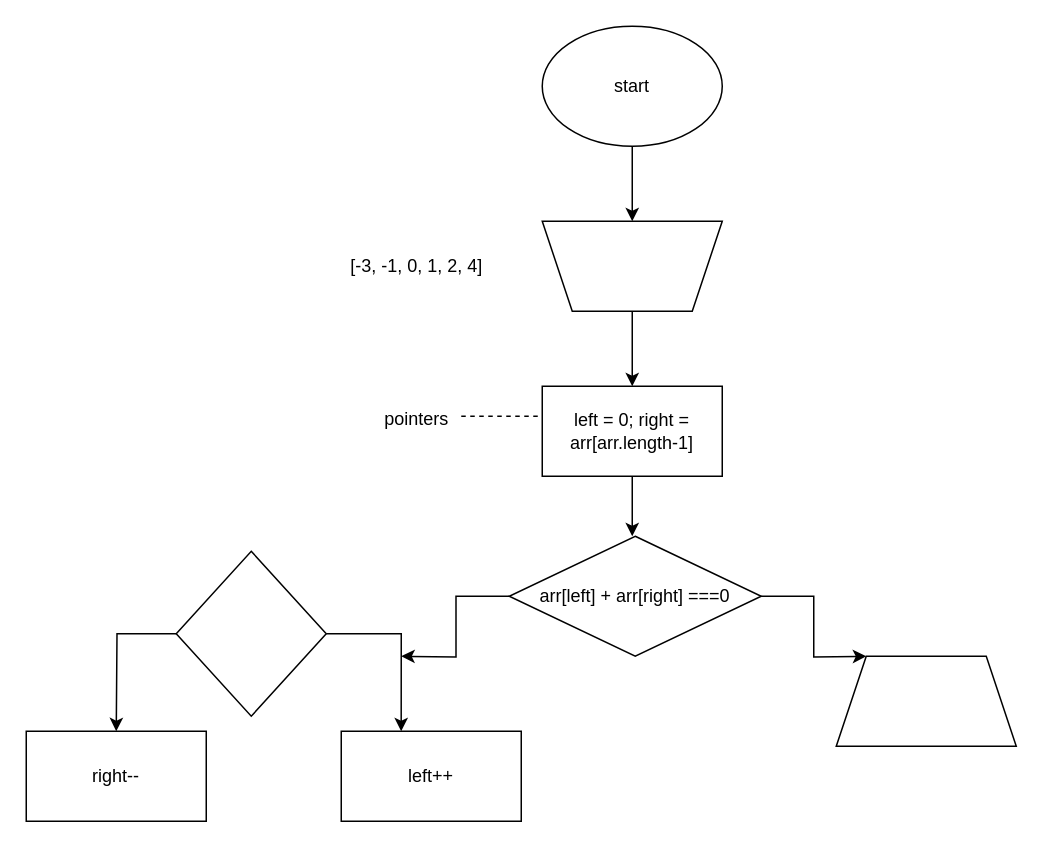
Image size: 1043x848. Some labels were removed from this diagram. The box of each missing label's shape, as (x1, y1, x2, y2) in pixels:
[arr[left], arr[right]: (835, 655, 1016, 746)
arr: (541, 220, 722, 311)
arr[left] + arr[right] >0: (175, 550, 326, 716)
